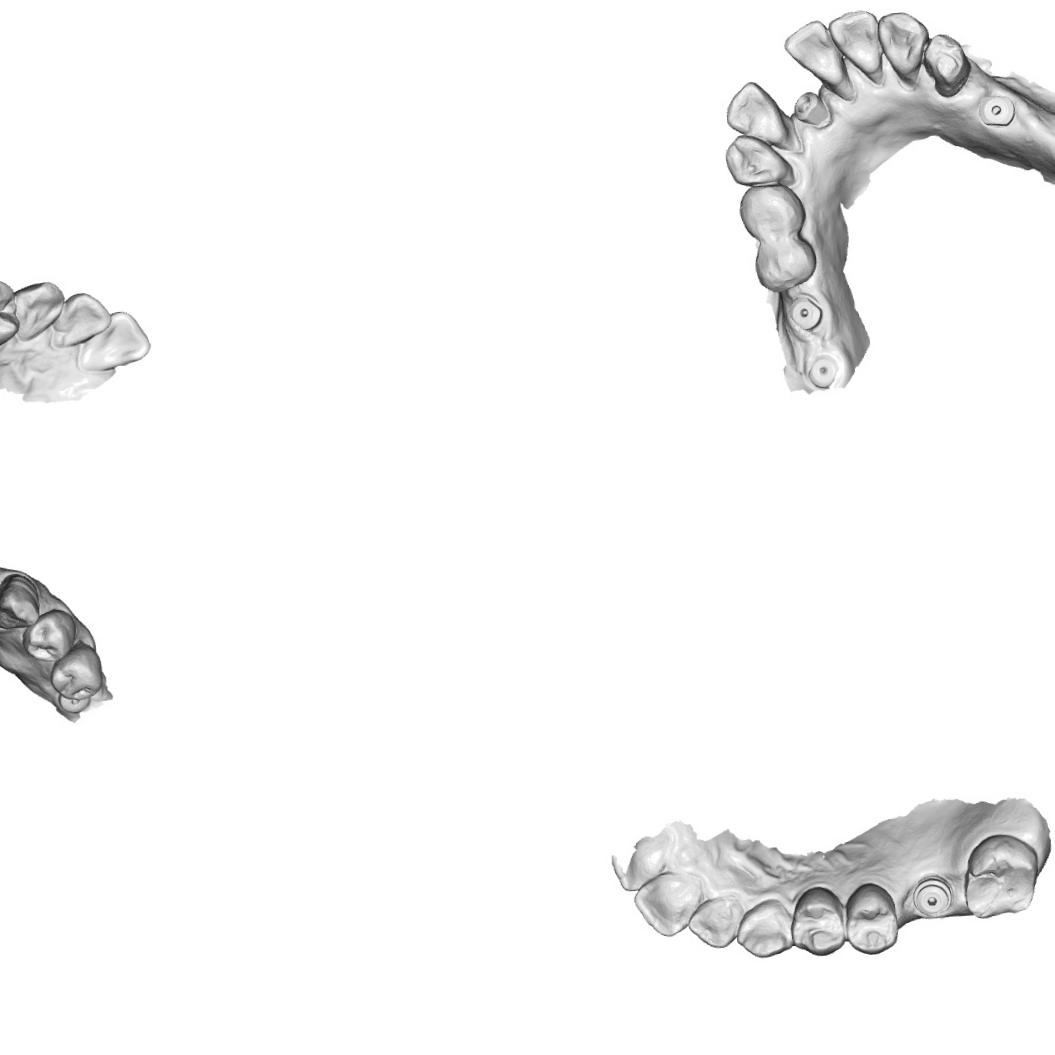canine: (718, 127, 794, 187), (732, 895, 798, 961), (874, 7, 932, 78), (6, 279, 68, 342), (0, 569, 41, 634)
implant: (790, 88, 829, 128), (911, 876, 950, 916), (976, 92, 1016, 126), (786, 295, 823, 331), (804, 352, 841, 387)
incisor: (72, 308, 154, 374), (630, 870, 708, 939), (781, 15, 845, 88), (722, 76, 784, 145), (824, 6, 884, 77), (48, 288, 115, 347), (686, 896, 740, 953)
molar: (959, 841, 1038, 921)
premolar: (840, 880, 902, 956), (786, 886, 848, 958), (734, 180, 808, 240), (752, 234, 819, 294), (46, 638, 104, 704), (19, 606, 79, 664), (920, 30, 972, 91), (0, 274, 19, 353)
